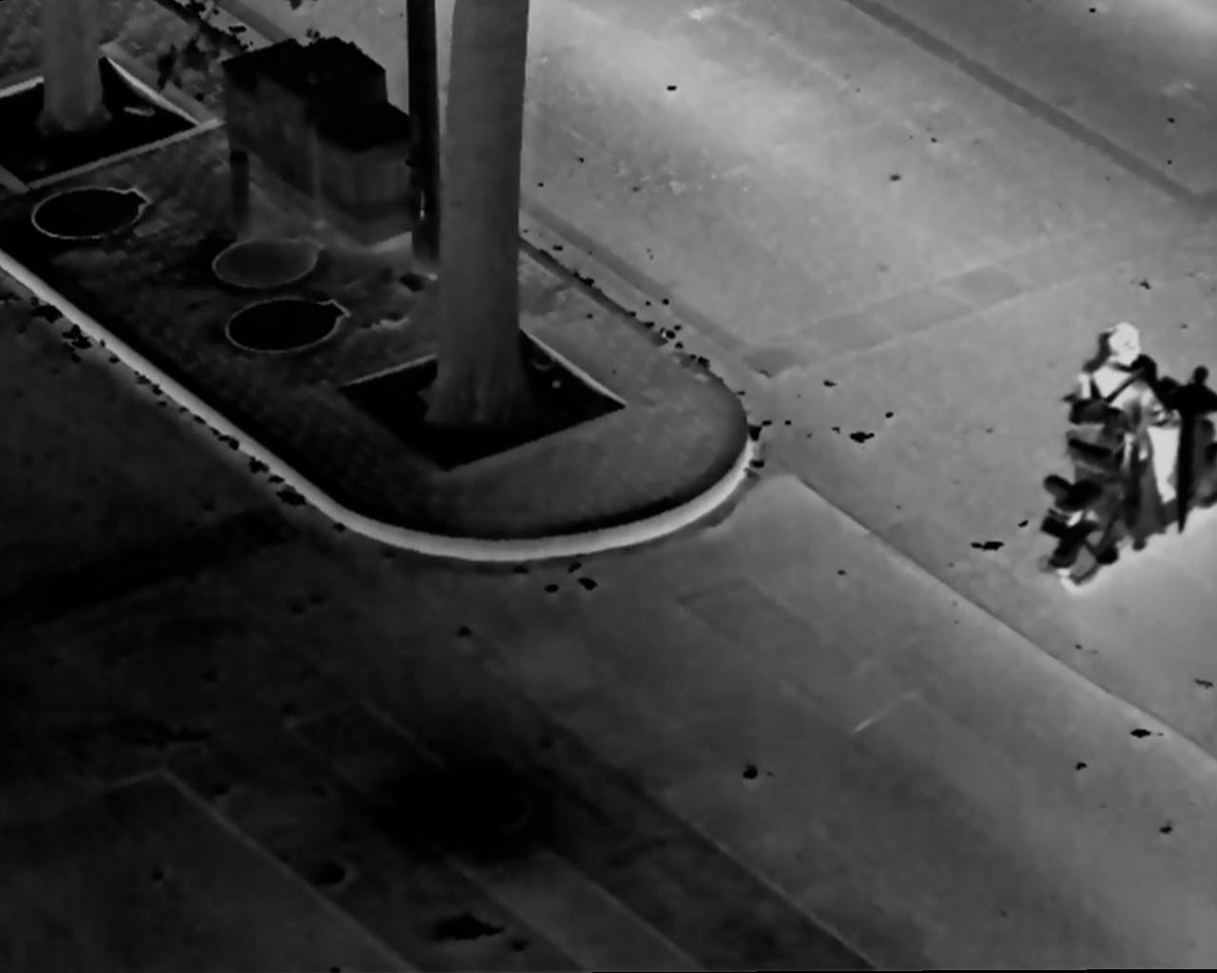person: (1067, 317, 1185, 506)
